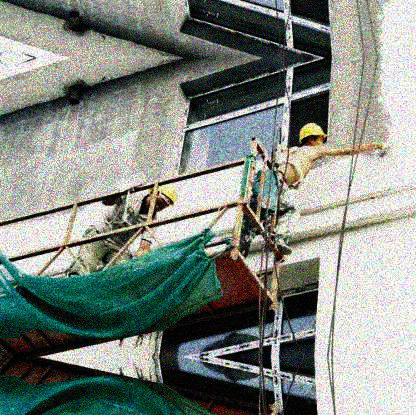helmet: (145, 182, 178, 213), (298, 122, 328, 147)
